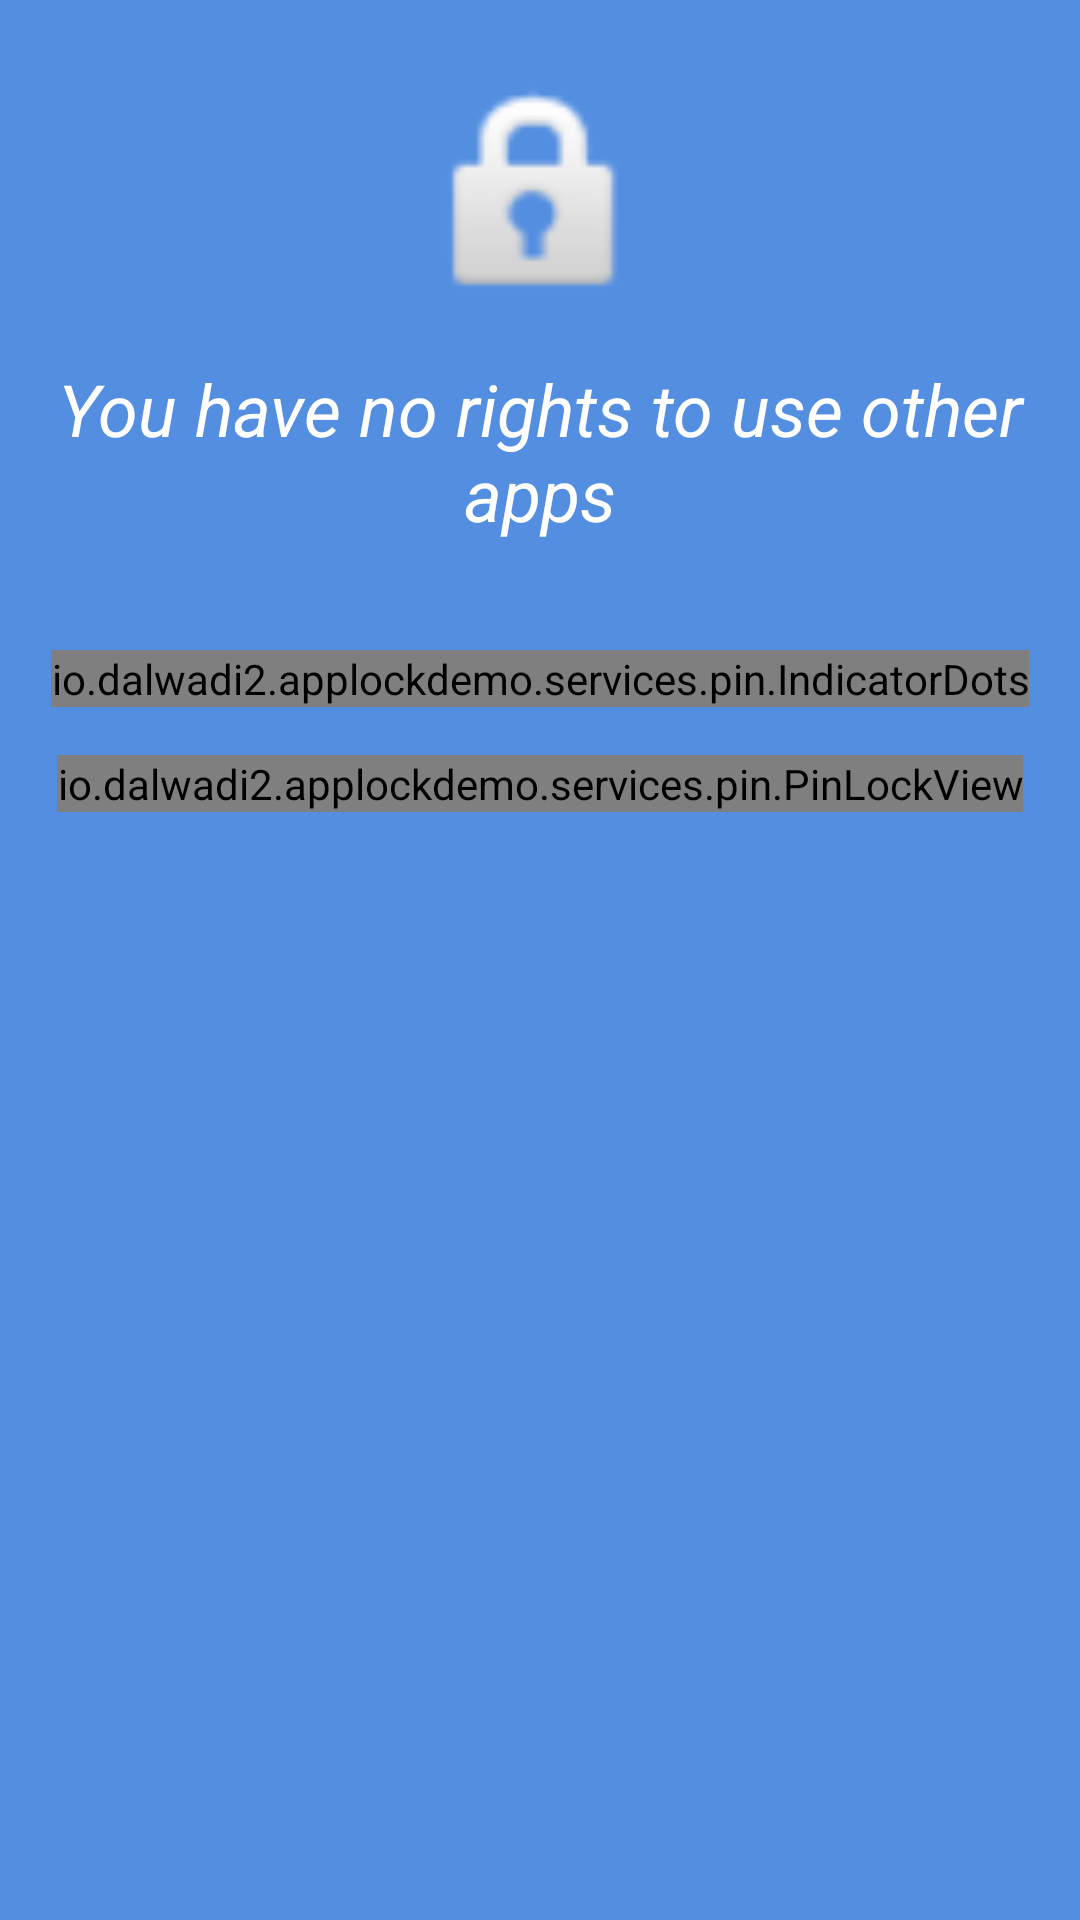

Screen size 1080 x 1920. Icon name, then its box in pixels as (x1, y1, x2, y2):
lock idle: (452, 94, 616, 286)
